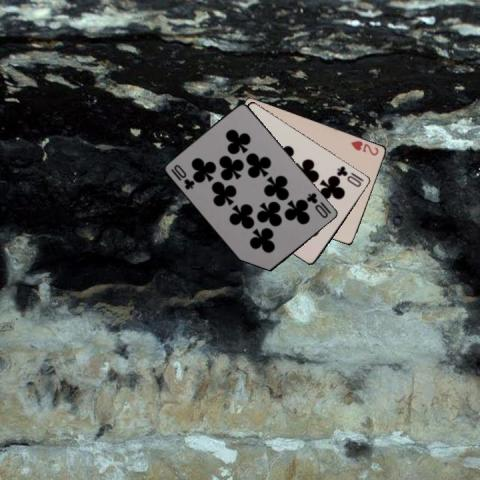10c: (304, 190, 333, 220), (168, 162, 197, 192), (334, 162, 363, 188)
2h: (348, 137, 380, 157)
